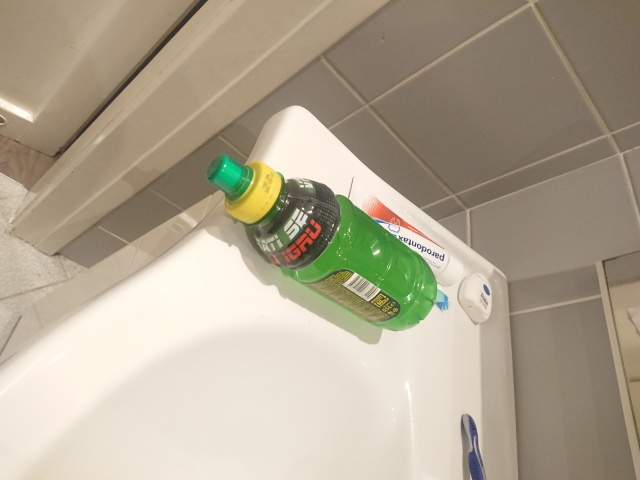Vindi Iso Sport Lemon-Grapefruit 500mL: (203, 151, 440, 334)
